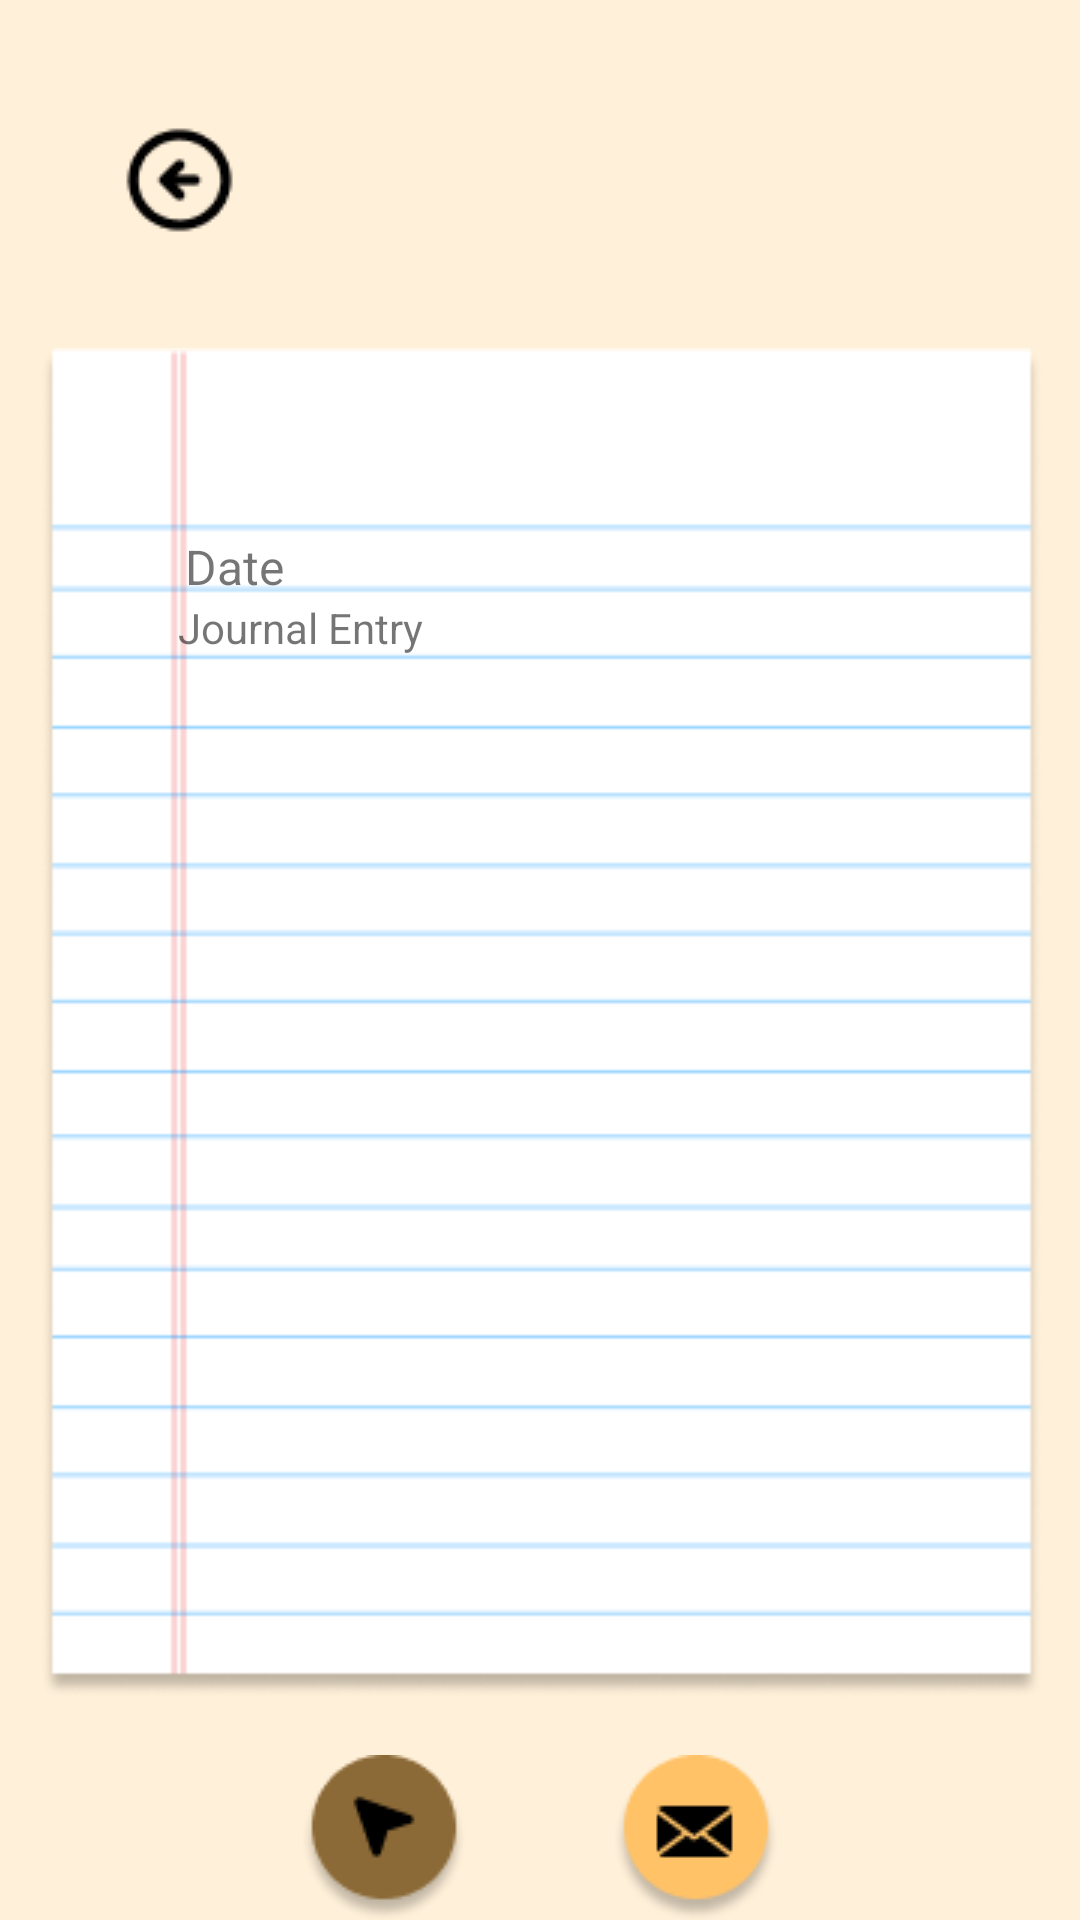

Locate icon controls on the screen. Image size 1080 × 1920, boxes as (x1, y1, x2, y2).
back arrow: (126, 128, 233, 232)
mail: (623, 1755, 769, 1912)
send: (311, 1755, 457, 1912)
